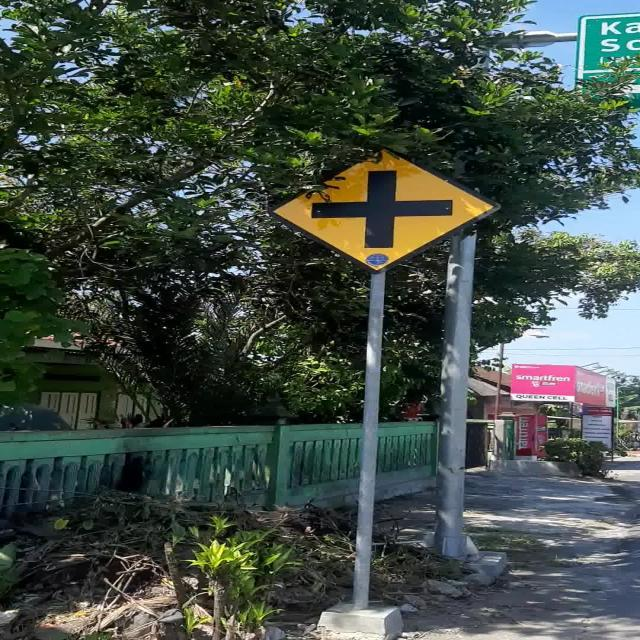Persimpangan 4: (268, 146, 500, 274)
